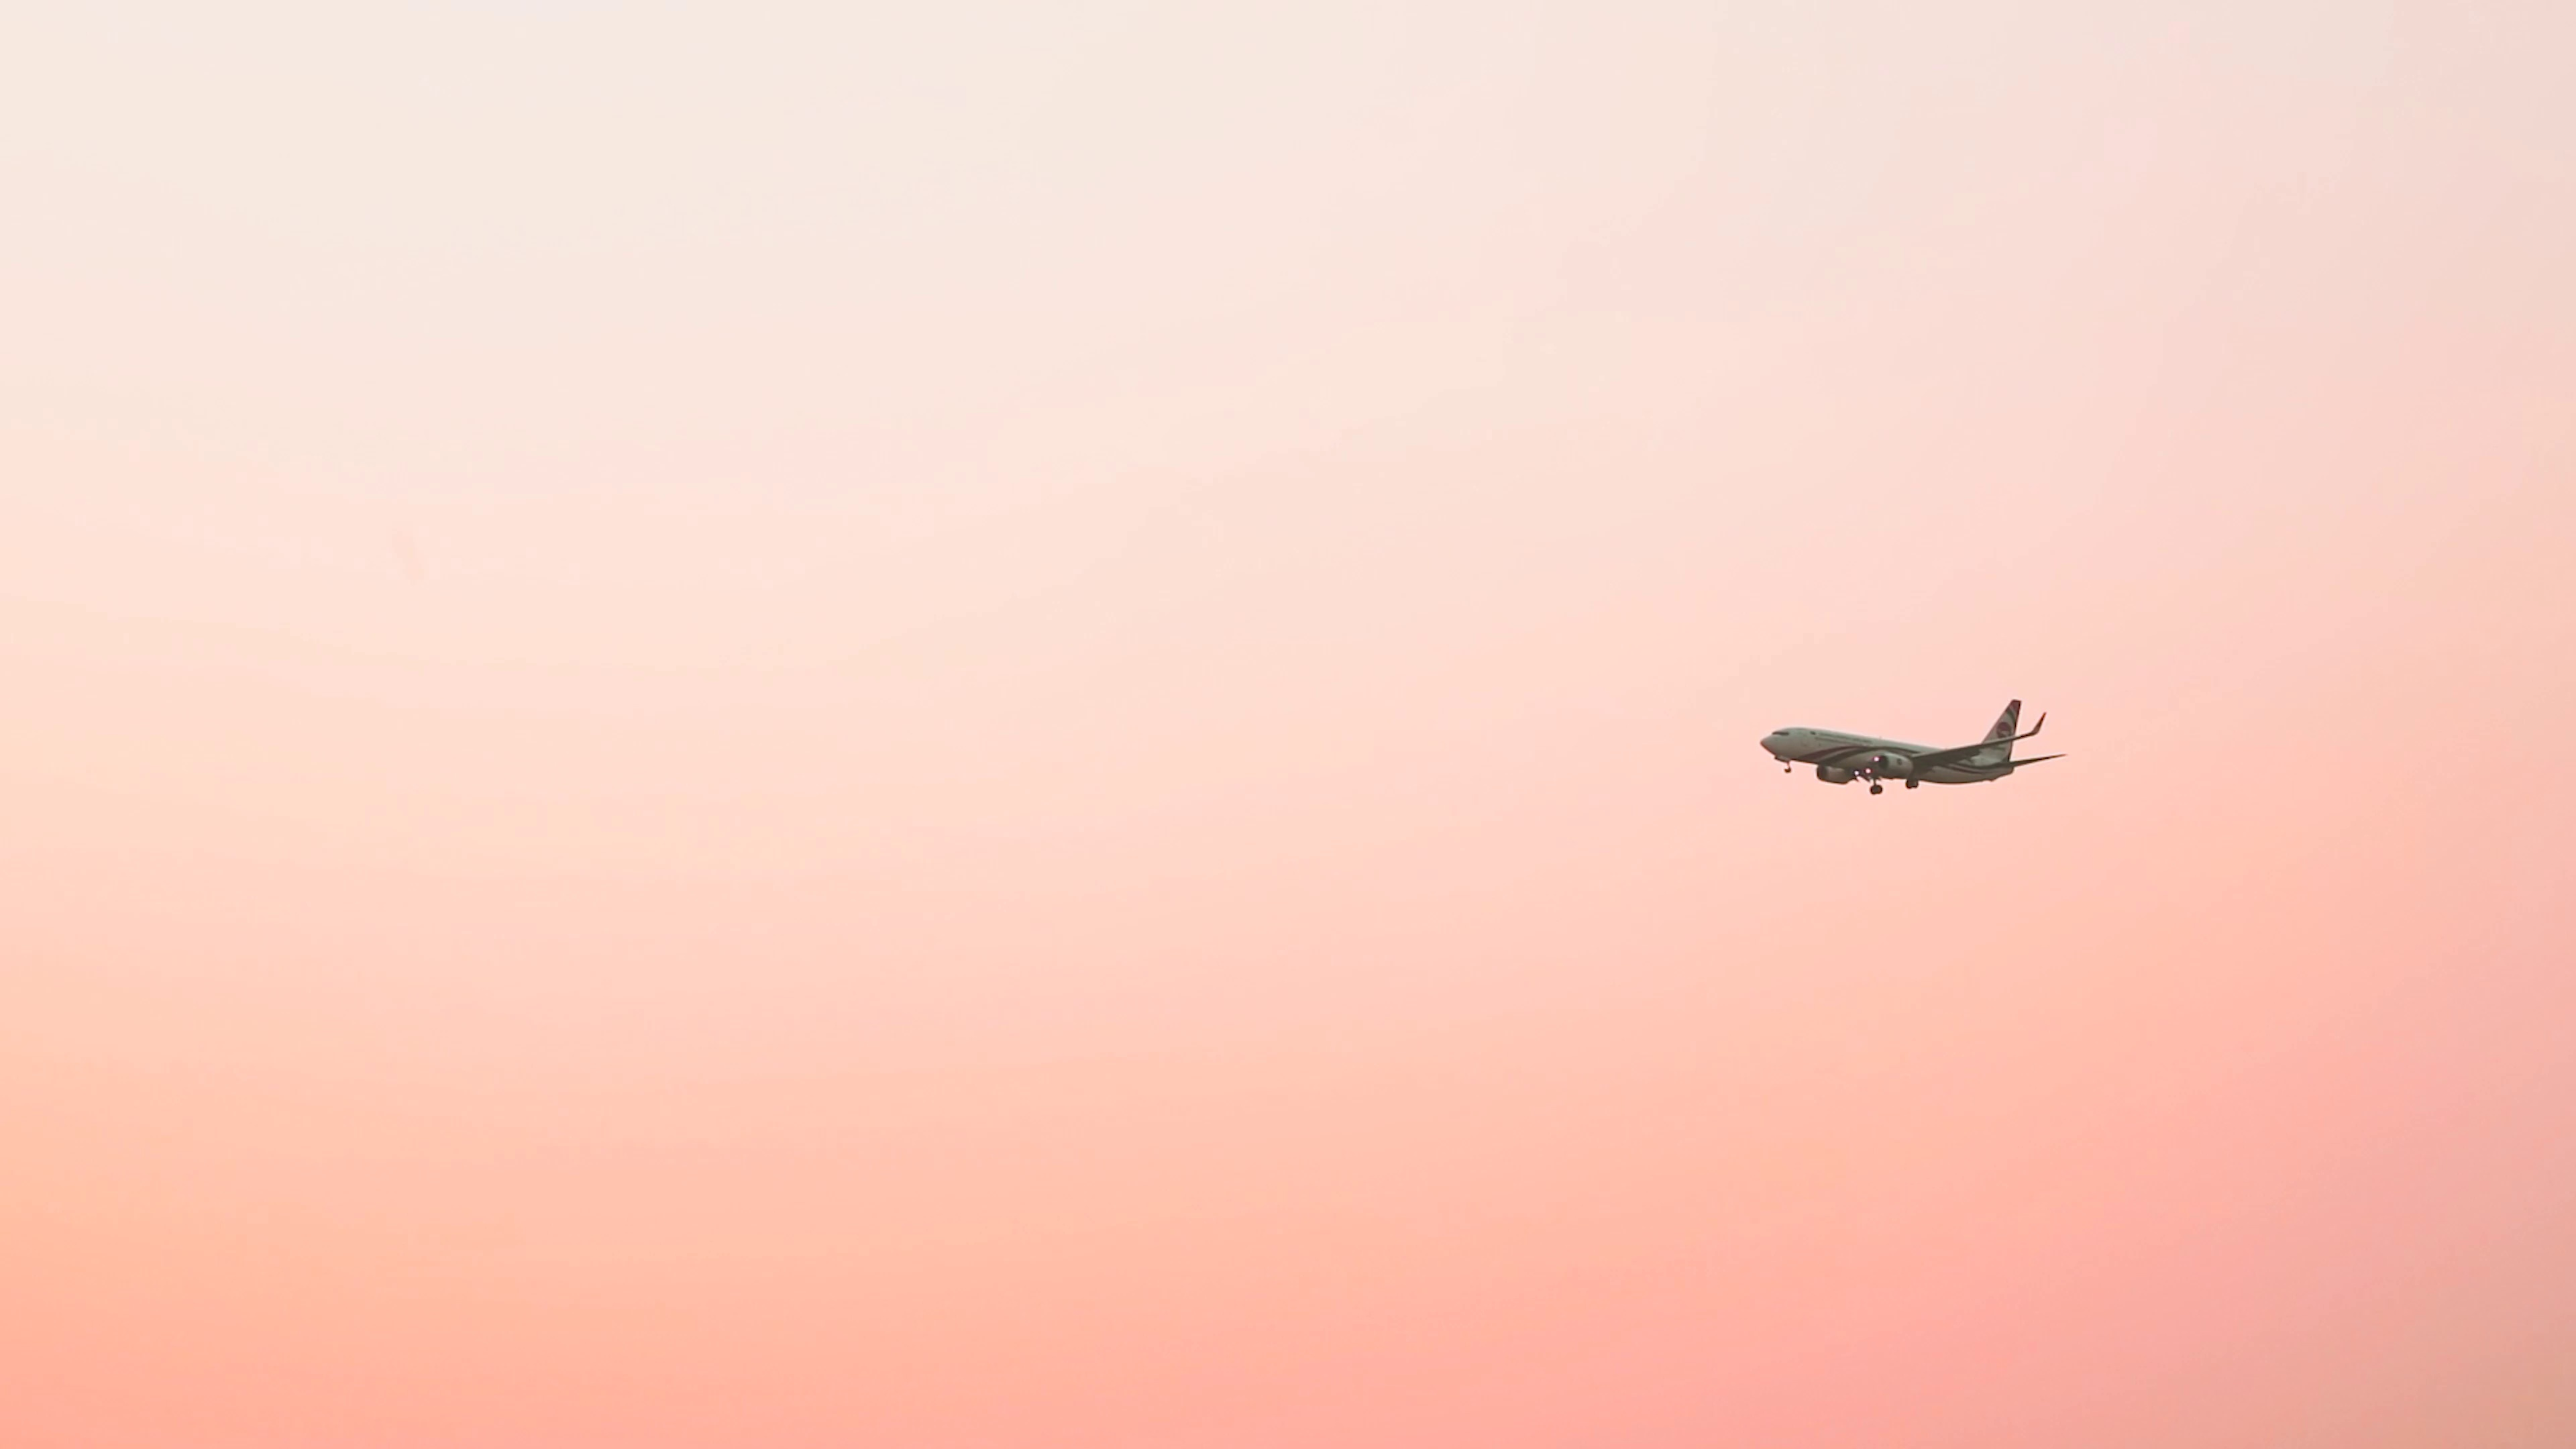plane: (1757, 697, 2061, 793)
